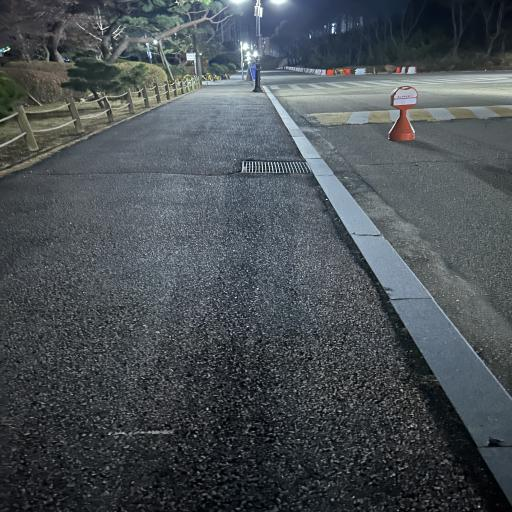drain: (241, 161, 311, 174)
